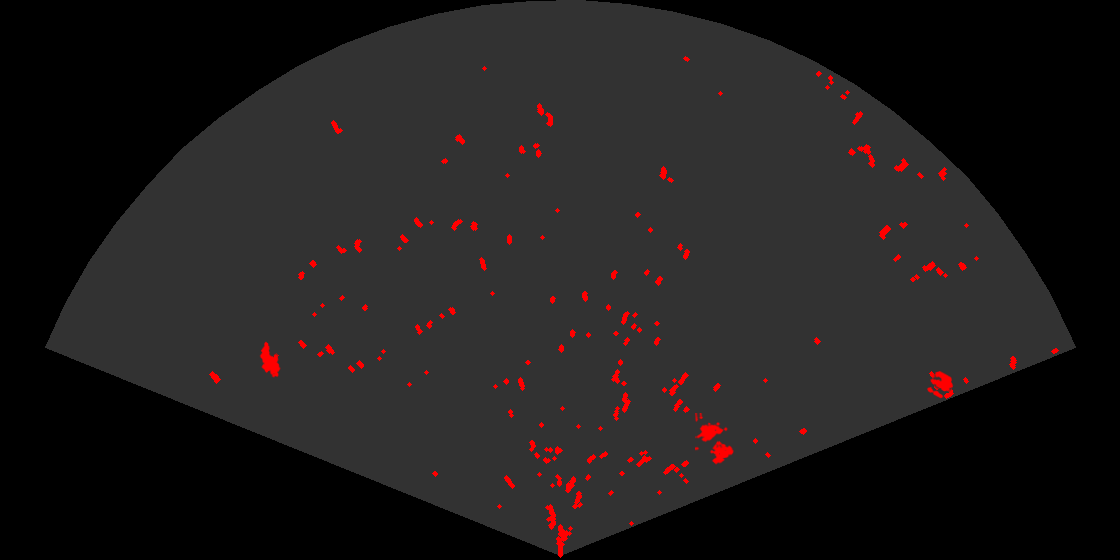AUV: (258, 340, 282, 379)
ball: (925, 370, 955, 400)
cage: (695, 413, 735, 466)
